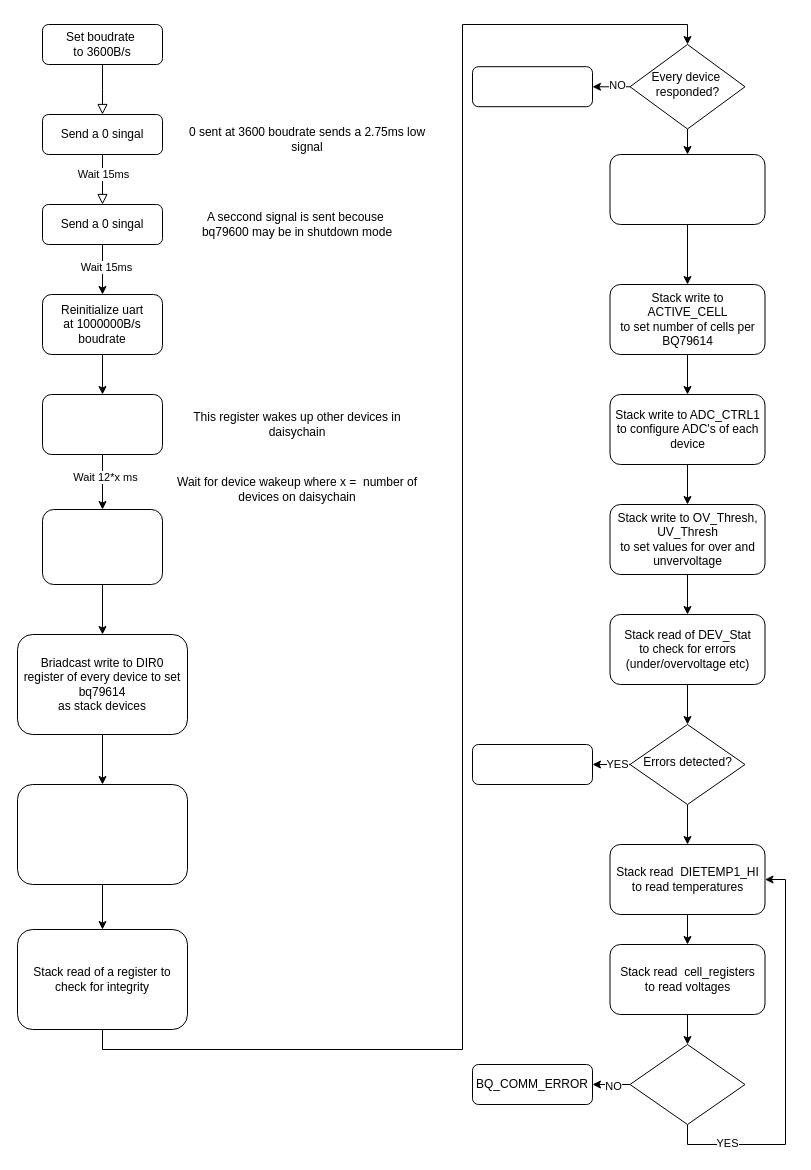
Some shapes in this 811 by 1170 pixel diagram are drawn without their labels. The shapes that lost their labels are listed below. From the top down, each one's centre as x and y in pixels, then its label:
At point 532,86: "AUTOADDRES ERROR".
At point 687,189: "Stack write to COMM_TIMEOUT to set communication timeout".
At point 102,424: "Write to CONTROL1 register of bq79600".
At point 102,546: "Write to CONTROL1 register of bq79600 to enable auto adressing".
At point 532,764: "BQ_ERROR".
At point 102,834: "Write to COMM_DIR register of every device to set bq79614 communication".
At point 687,1084: "Data received?".
